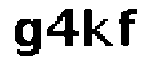4: (45, 6, 80, 51)
f: (118, 6, 141, 51)
g: (11, 17, 45, 60)
k: (80, 5, 113, 50)
